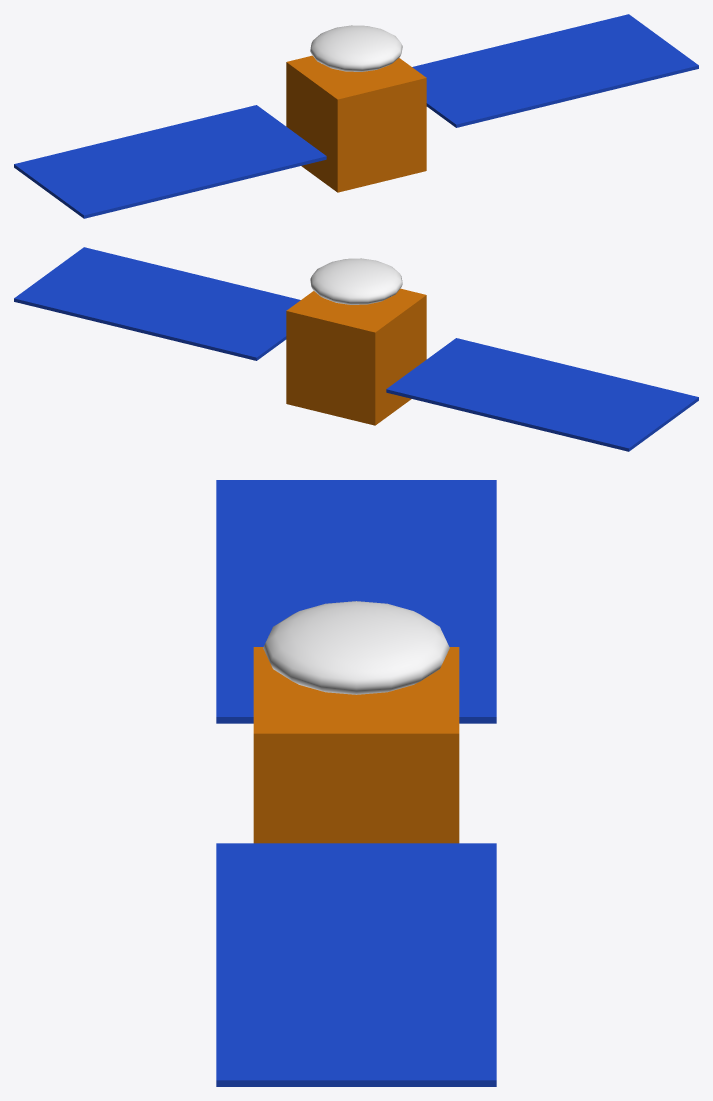
The model's file is satellite.glb.
The picture shows the model from 3 angles, top to bottom: view 1: azimuth 30°, elevation 25°; view 2: azimuth 150°, elevation 25°; view 3: azimuth 270°, elevation 25°; orthographic projection. The views are drawn at different scales.
Bounding box in the file's own units: 1 × 0.1974 × 0.1974.
